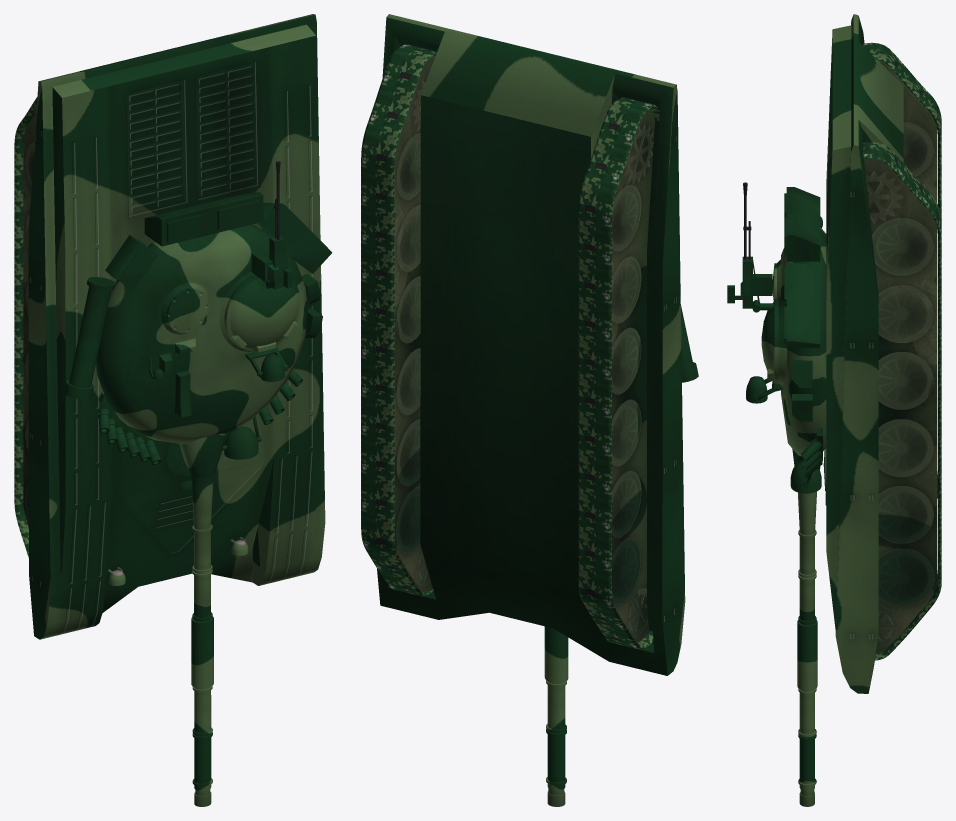
3 views of the same model, side by side, from view 1: azimuth 30°, elevation 25°; view 2: azimuth 150°, elevation 25°; view 3: azimuth 270°, elevation 25° (orthographic). The views are drawn at different scales.
Parts seen in each view (by area): view 1: T72; view 2: T72; view 3: T72.
Boxes of the visible parts, bbox=[...] form: T72: bbox=[14, 14, 332, 806]; T72: bbox=[361, 14, 698, 806]; T72: bbox=[727, 14, 941, 806].
Bounding box in the file's own units: 3.61 × 9.25 × 2.49.
4 materials, 4 textured.
